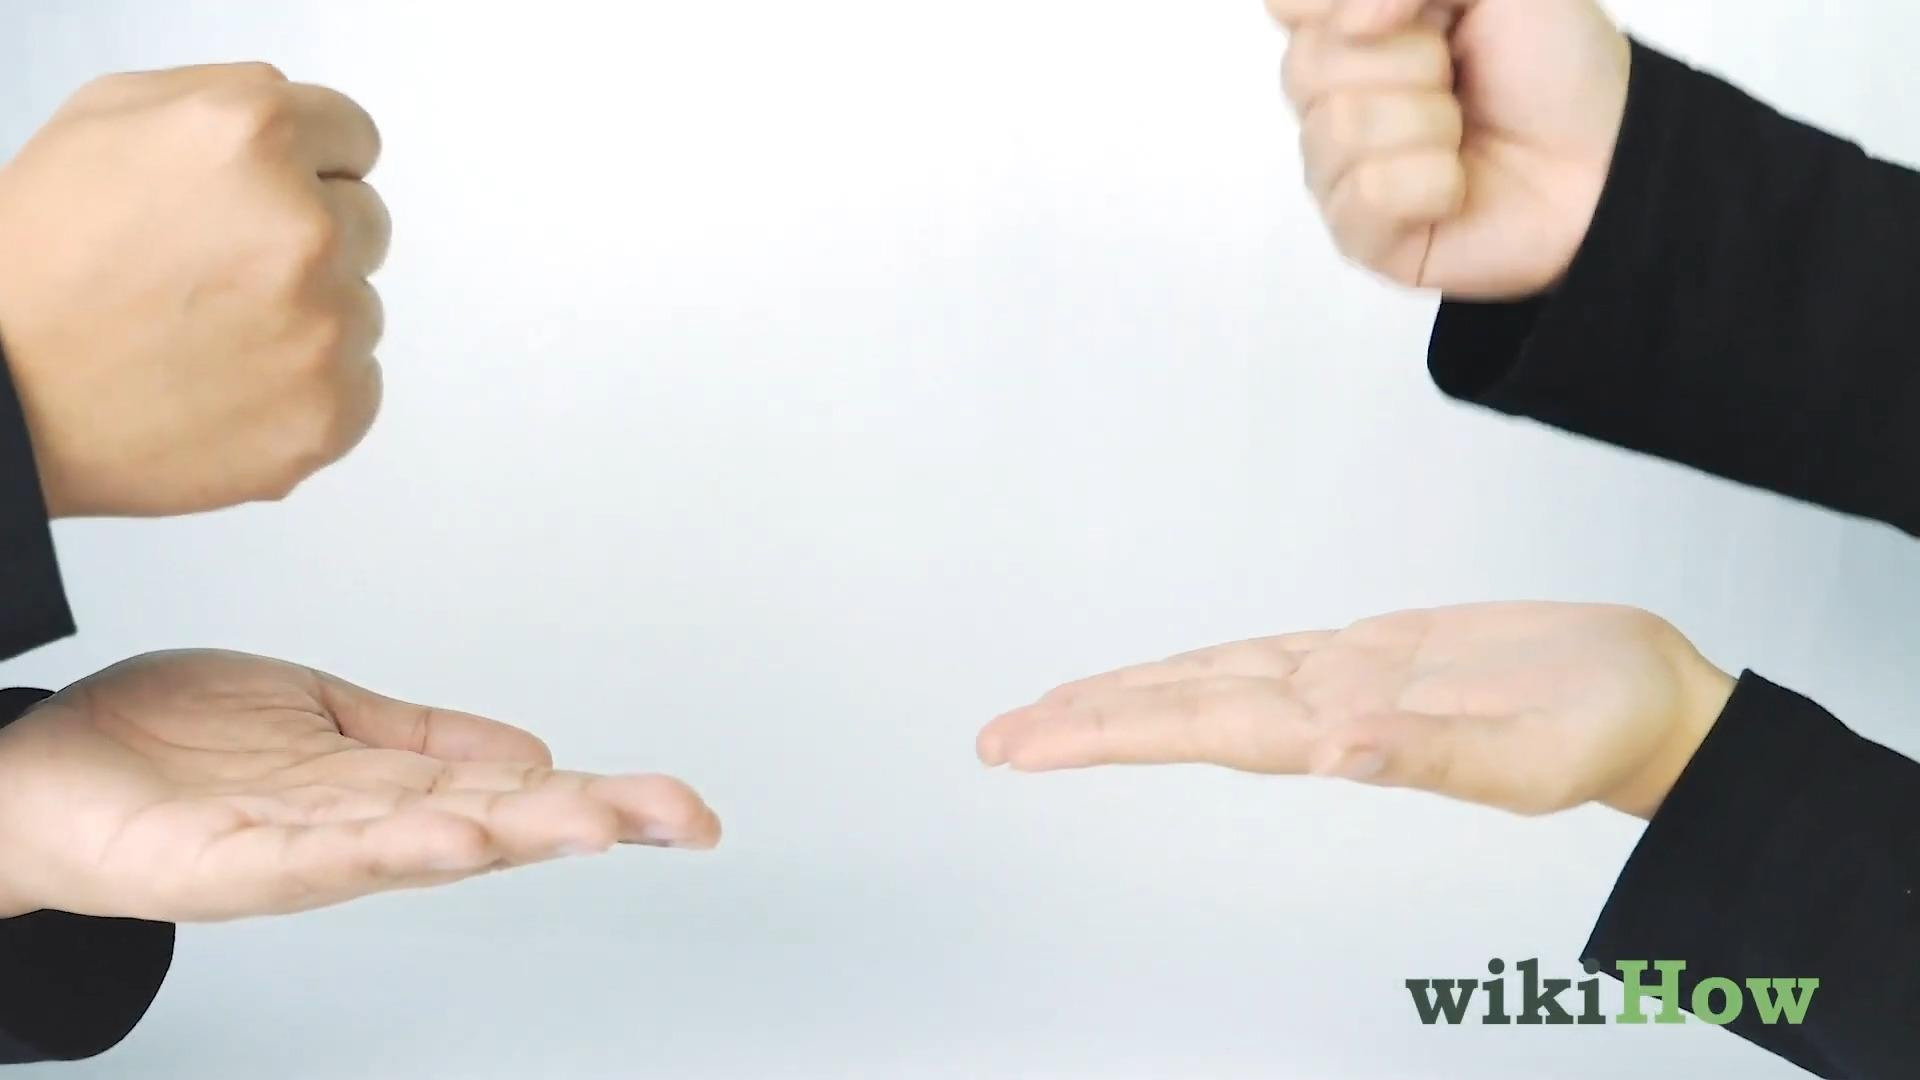Rock: (0, 58, 396, 524), (1250, 0, 1627, 302)
